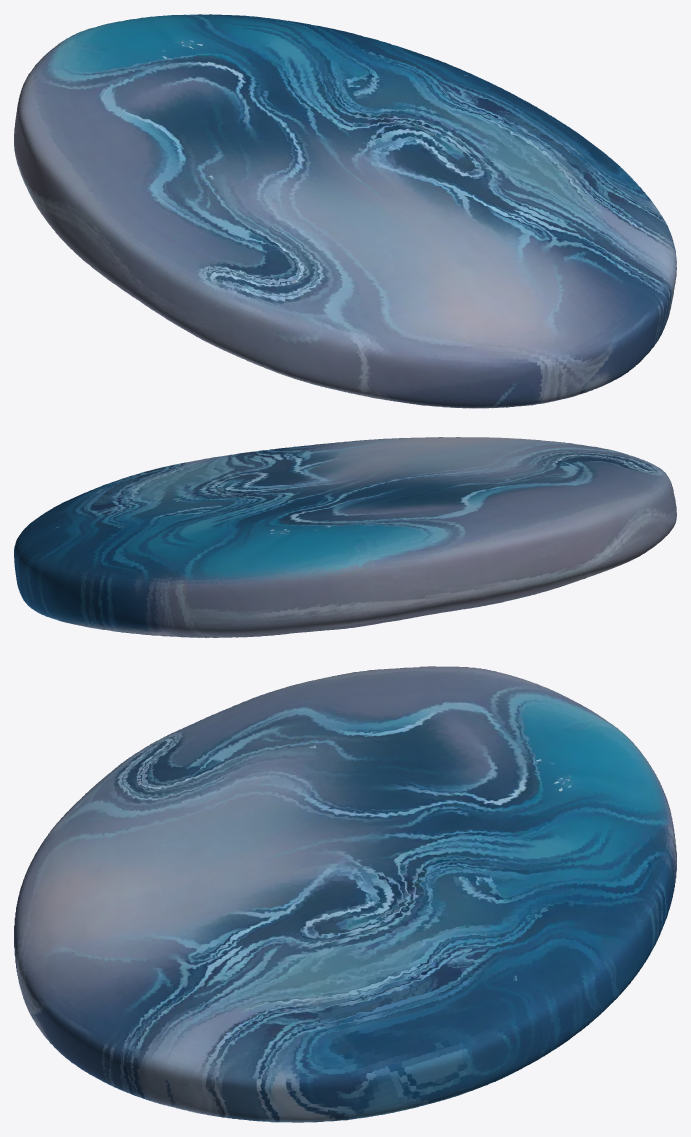
Rendered from stone3_compressed.glb.
3 views of the same model, one above another, from view 1: azimuth 30°, elevation 25°; view 2: azimuth 150°, elevation 25°; view 3: azimuth 270°, elevation 25° (orthographic). The views are drawn at different scales.
Parts seen in each view (by area): view 1: tripo_node_09eeb722-4c85-43cc-abc0-b4cd3cf99347; view 2: tripo_node_09eeb722-4c85-43cc-abc0-b4cd3cf99347; view 3: tripo_node_09eeb722-4c85-43cc-abc0-b4cd3cf99347.
Part boxes in pixels (<box>): tripo_node_09eeb722-4c85-43cc-abc0-b4cd3cf99347: <box>14,14,676,408</box>; tripo_node_09eeb722-4c85-43cc-abc0-b4cd3cf99347: <box>14,437,676,637</box>; tripo_node_09eeb722-4c85-43cc-abc0-b4cd3cf99347: <box>14,666,676,1122</box>.
Bounding box in the file's own units: 0.9349 × 0.3325 × 0.9423.
1 material, 1 textured.
